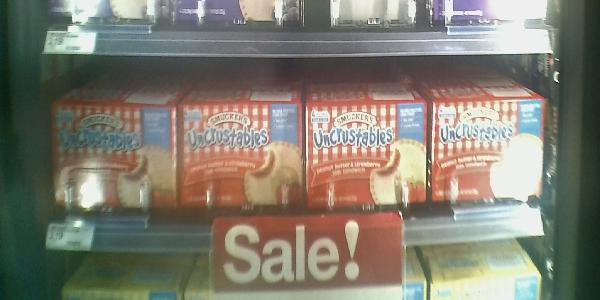icecream: (49, 97, 180, 212), (177, 98, 309, 212), (305, 94, 428, 210), (429, 89, 545, 207)
